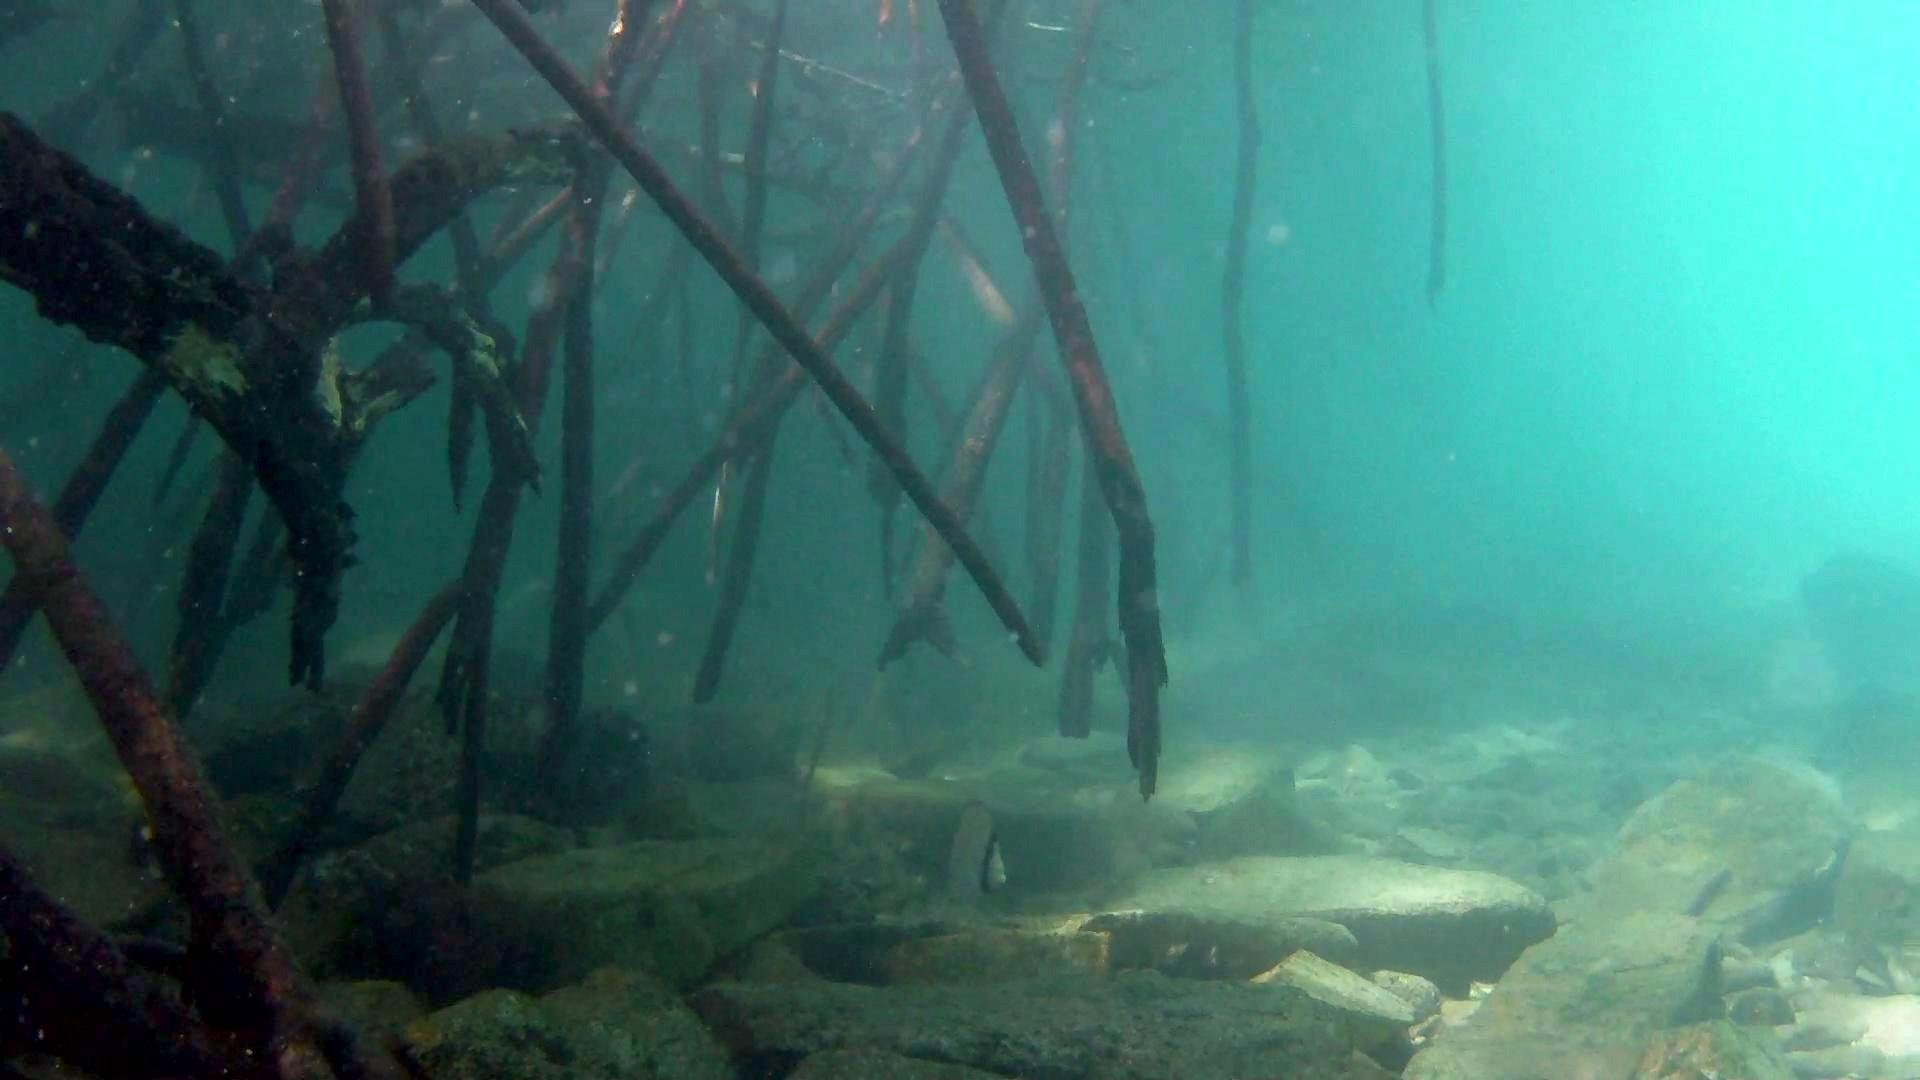chaetodon vagabundus: (942, 794, 1010, 909)
